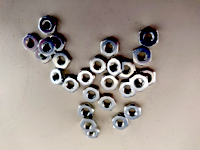nut: (139, 26, 159, 47), (100, 38, 119, 58), (39, 15, 57, 36), (22, 33, 40, 53), (134, 47, 152, 66), (52, 51, 71, 69), (99, 94, 117, 112), (123, 103, 142, 120), (107, 58, 124, 76), (89, 58, 107, 75), (101, 75, 119, 92), (119, 81, 137, 98), (82, 86, 100, 103), (77, 70, 95, 87), (37, 38, 54, 56), (130, 76, 149, 92), (119, 62, 136, 79), (139, 69, 156, 86), (62, 76, 79, 93), (35, 49, 52, 66), (112, 114, 129, 130), (77, 104, 95, 119), (79, 118, 97, 133), (50, 35, 66, 51), (50, 70, 65, 86), (84, 129, 101, 139)
